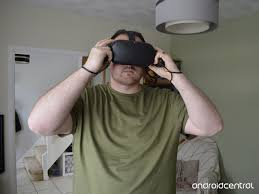oculus: (109, 39, 157, 69)
